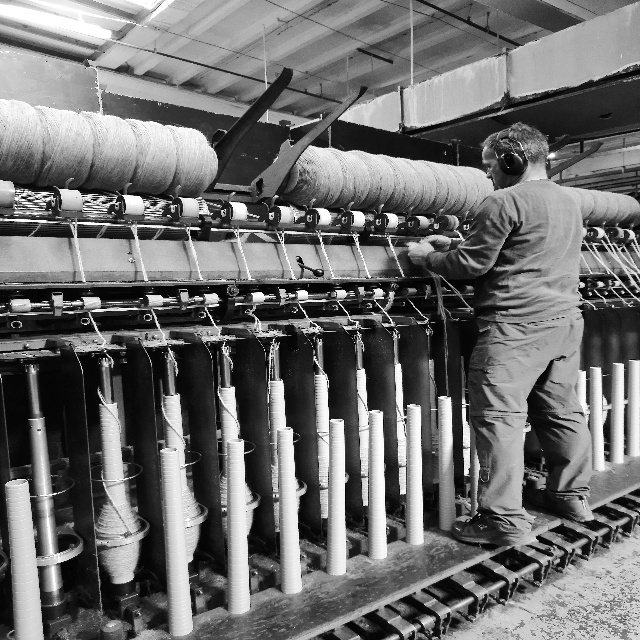Sin_guantes: (405, 241, 434, 267), (420, 234, 451, 251)
